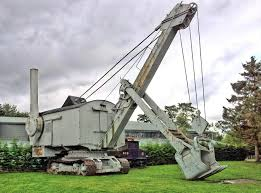excavator: (27, 3, 226, 178)
